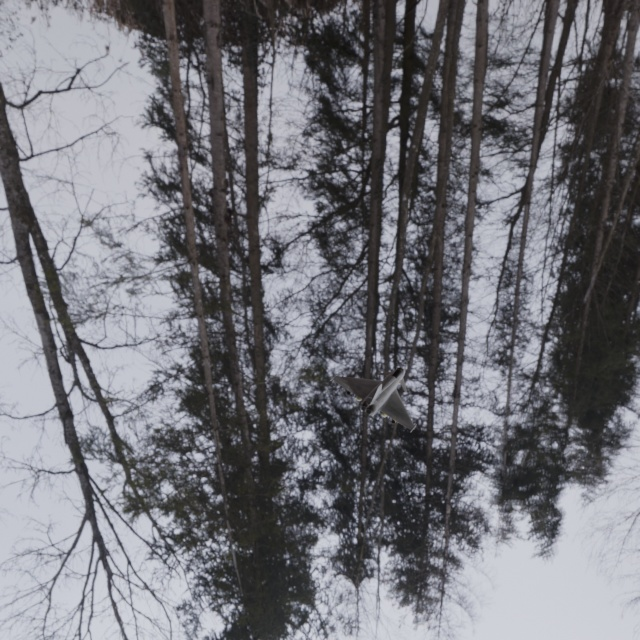eurofighter_typhoon_3d: (314, 321, 456, 455)
